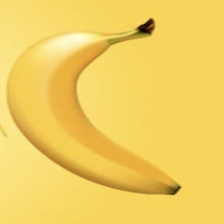banana: (37, 14, 189, 209)
